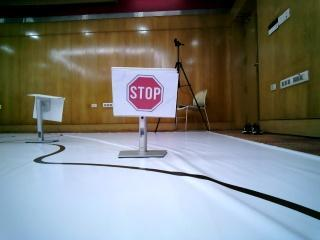stop: (122, 69, 170, 116)
